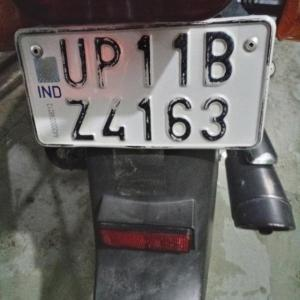Plate: (36, 20, 269, 150)
